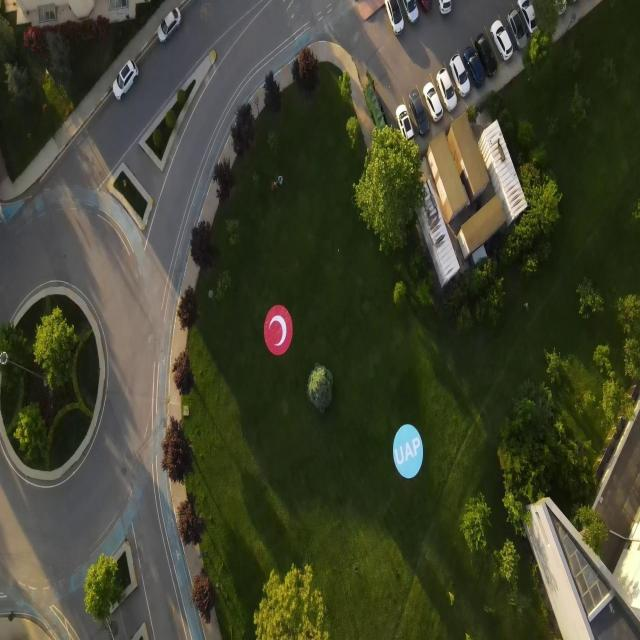p3rson: (271, 182, 277, 192), (278, 176, 282, 186)
